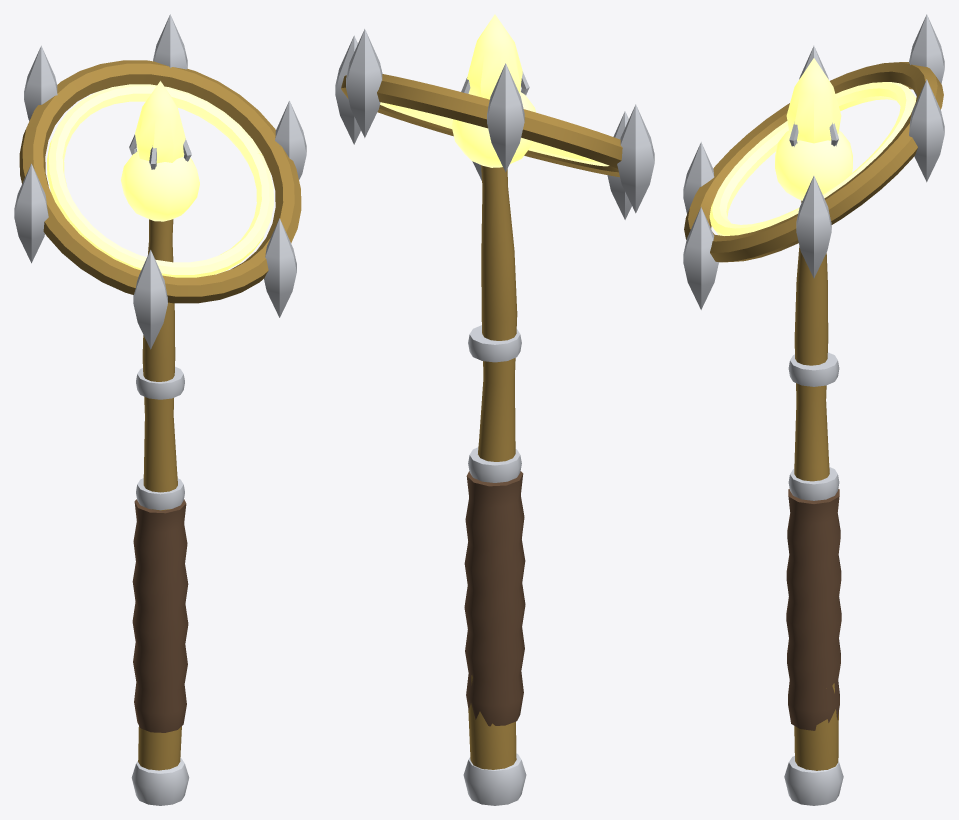
Rendered from esc_w_mage_wand_8.glb.
3 views of the same model, side by side, from view 1: azimuth 30°, elevation 25°; view 2: azimuth 150°, elevation 25°; view 3: azimuth 270°, elevation 25° (orthographic). The views are drawn at different scales.
Visible parts, largest first — view 1: esc_w_mage_wand_8; view 2: esc_w_mage_wand_8; view 3: esc_w_mage_wand_8.
Part boxes in pixels (x1,y1,x2,y2): esc_w_mage_wand_8: [14, 14, 306, 805]; esc_w_mage_wand_8: [335, 14, 654, 805]; esc_w_mage_wand_8: [683, 14, 944, 805].
Bounding box in the file's own units: 0.1524 × 0.3654 × 0.1143.
